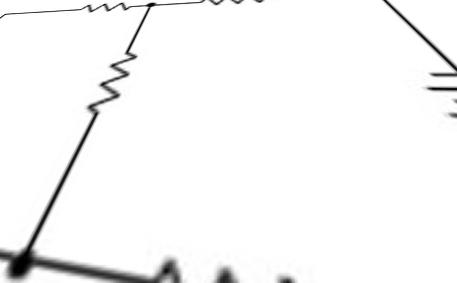resistor: (81, 49, 149, 115), (76, 0, 132, 11)
